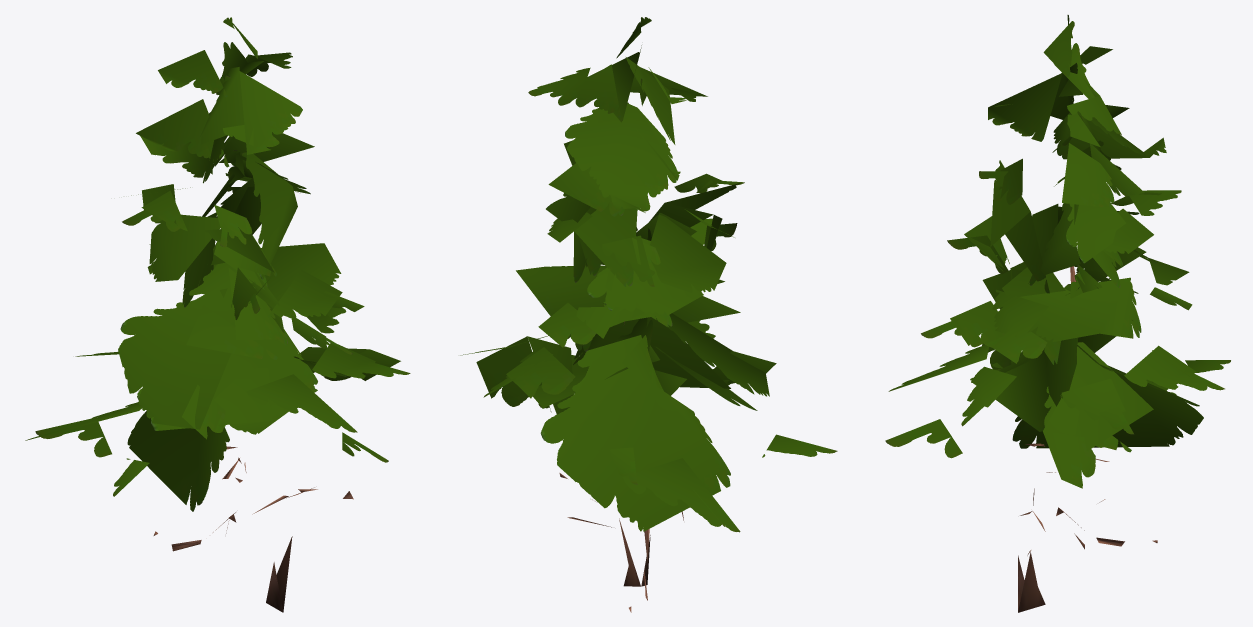
Rendered from pinus-2-lod.glb.
The picture shows the model from 3 angles, left to right: view 1: azimuth 30°, elevation 25°; view 2: azimuth 150°, elevation 25°; view 3: azimuth 270°, elevation 25°; orthographic projection. The views are drawn at different scales.
Visible parts, largest first — view 1: Pine_4; view 2: Pine_4; view 3: Pine_4.
Part boxes in pixels (<box>): Pine_4: <box>25,17,410,612</box>; Pine_4: <box>460,17,837,612</box>; Pine_4: <box>885,15,1230,612</box>.
Size of the model in its own units: 6.99 by 11.92 by 6.69.
Materials: 2 (2 with a texture image).
